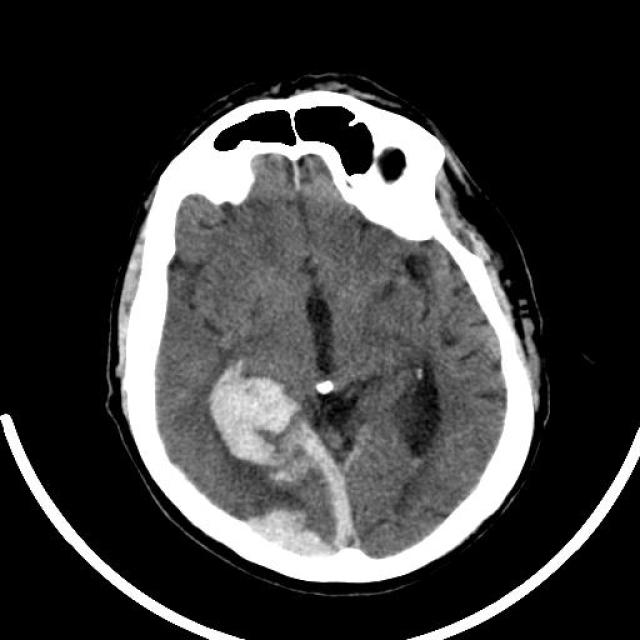Intraparenchymal: (192, 354, 302, 471)
Subdural: (298, 418, 404, 568)
